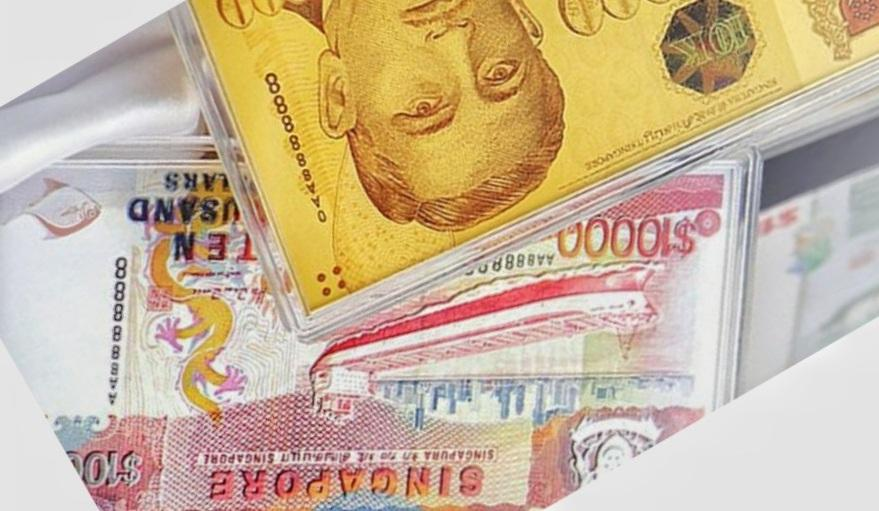10000SingaporeDollar: (0, 169, 730, 511)
